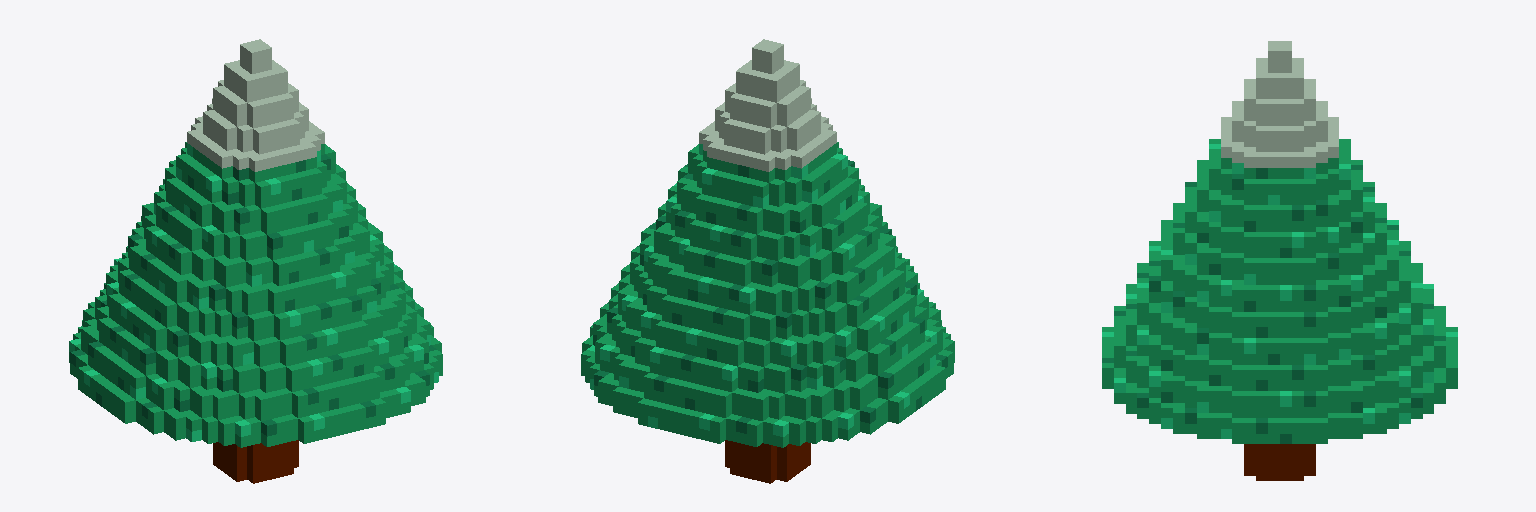
3 views of the same model, side by side, from view 1: azimuth 30°, elevation 25°; view 2: azimuth 150°, elevation 25°; view 3: azimuth 270°, elevation 25° (orthographic).
Parts seen in each view (by area): view 1: SnowTree; view 2: SnowTree; view 3: SnowTree.
Part boxes in pixels (x1,y1,x2,y2): SnowTree: (69, 39, 442, 483); SnowTree: (581, 39, 954, 483); SnowTree: (1102, 41, 1457, 480).
Bounding box in the file's own units: 30 × 39 × 30.
Materials: 1 (1 with a texture image).